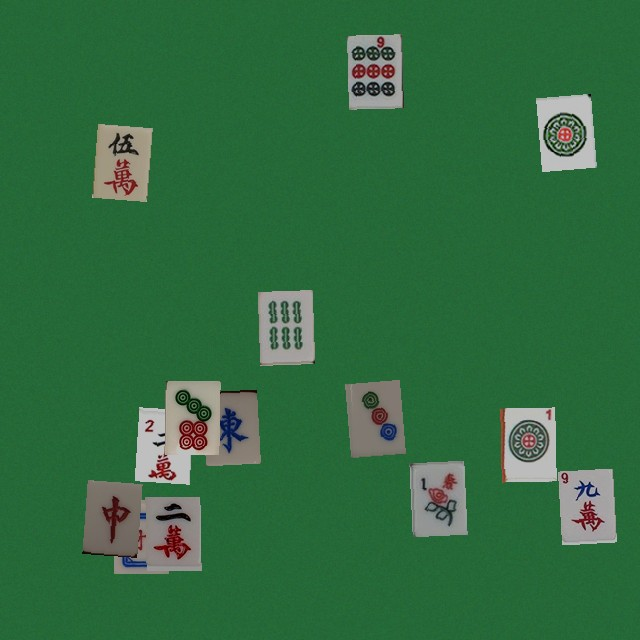tile: (500, 407, 555, 481), (257, 290, 312, 364), (409, 460, 464, 534), (113, 499, 168, 573), (134, 407, 189, 481), (202, 389, 257, 463), (557, 468, 612, 542), (345, 379, 400, 453), (145, 496, 200, 570), (164, 380, 219, 454), (347, 34, 402, 108), (92, 123, 147, 197), (82, 480, 137, 554), (536, 93, 591, 167)
